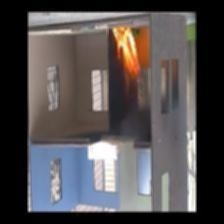fire: (109, 22, 144, 81)
